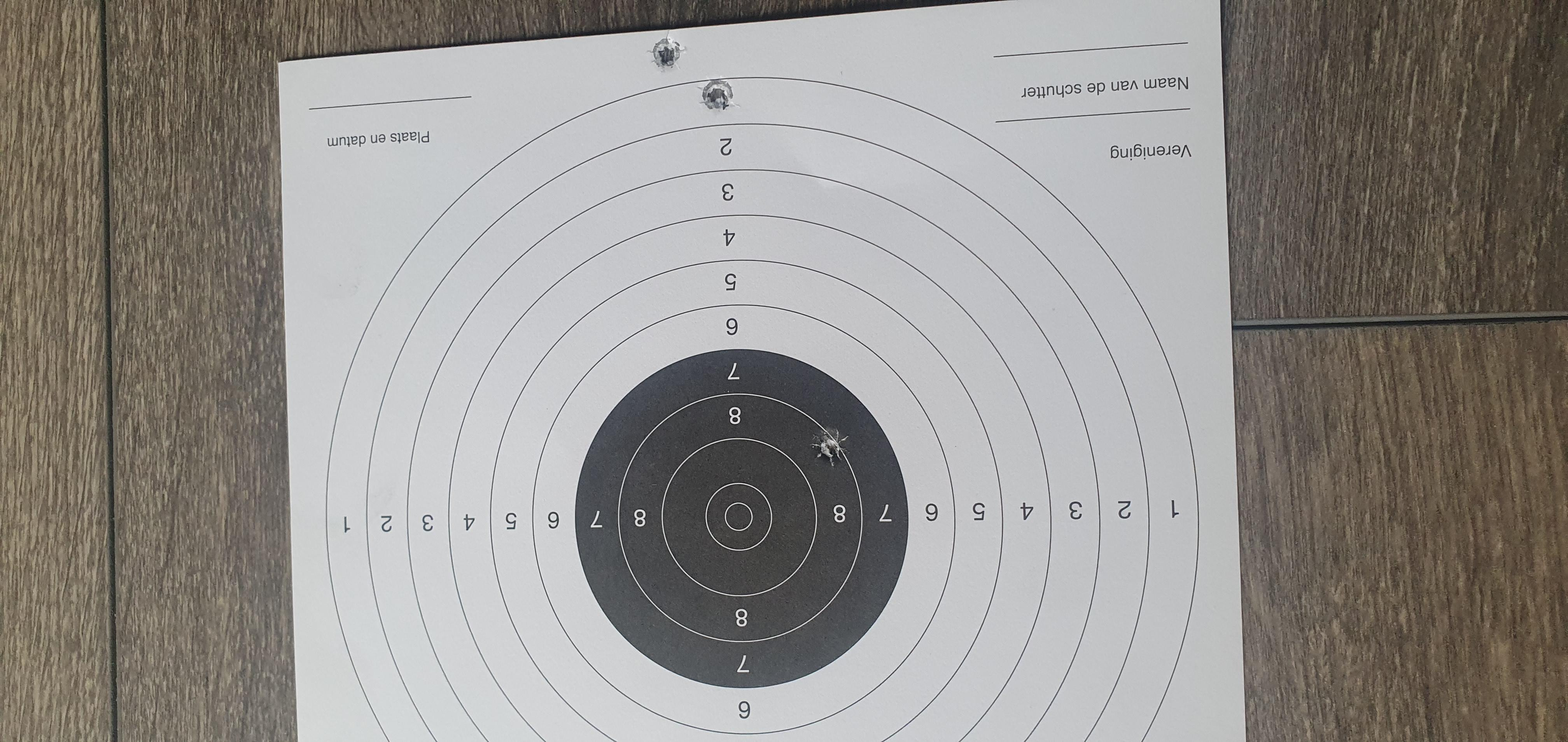hole: (1407, 306, 1503, 327), (574, 384, 673, 403), (1324, 332, 1412, 347)
